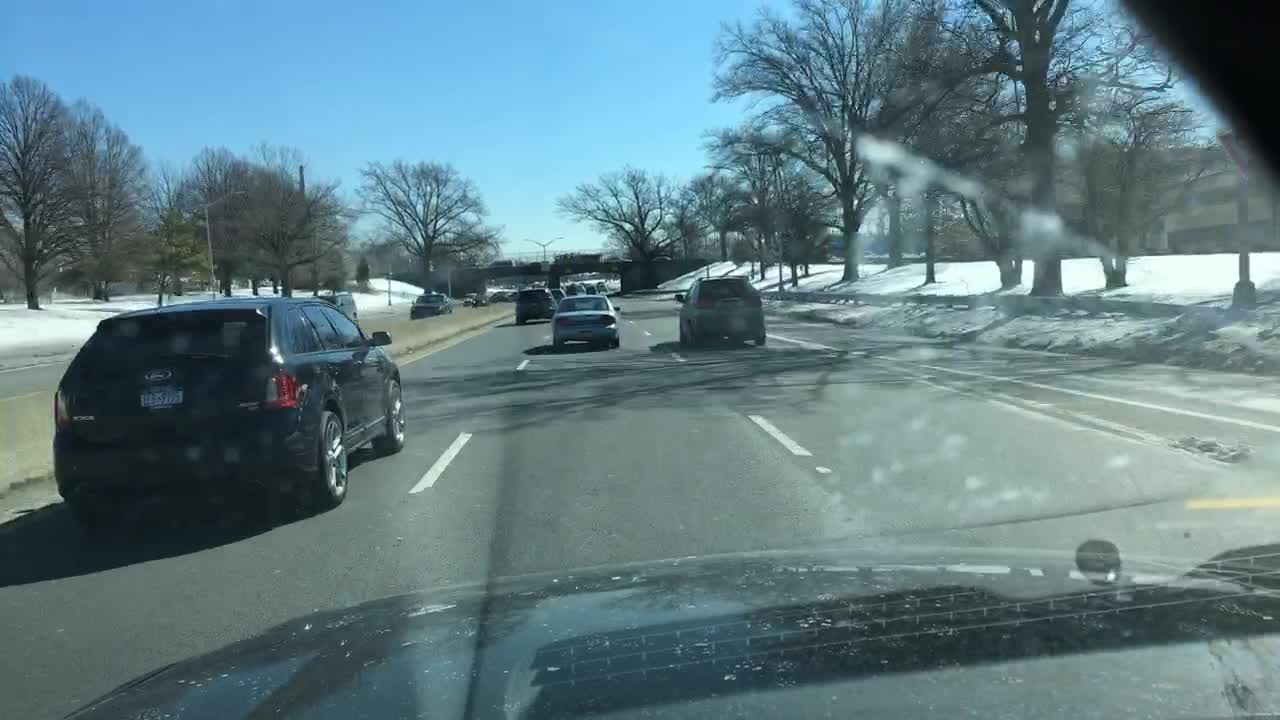car: (51, 295, 409, 530), (673, 274, 767, 349), (546, 293, 621, 351), (515, 286, 556, 323), (318, 288, 360, 324), (408, 291, 451, 321), (489, 289, 516, 301), (487, 258, 516, 269), (566, 281, 585, 296), (521, 260, 549, 270), (605, 254, 633, 264), (461, 290, 476, 306), (475, 295, 491, 310), (551, 285, 566, 301), (651, 253, 668, 262), (551, 257, 562, 269), (596, 281, 607, 291), (586, 284, 596, 295)
traffic sign: (1217, 127, 1255, 173)
truck: (566, 252, 607, 265)
